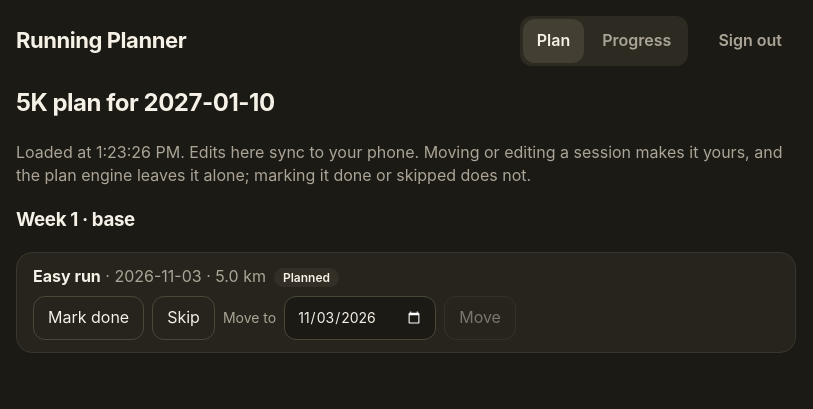
Test: the plan › keeps the conflict message when the reload after it fails too
The width and height of the screenshot is (813, 409).
Click the button "Mark done": (89, 318) [33,296,144,340]
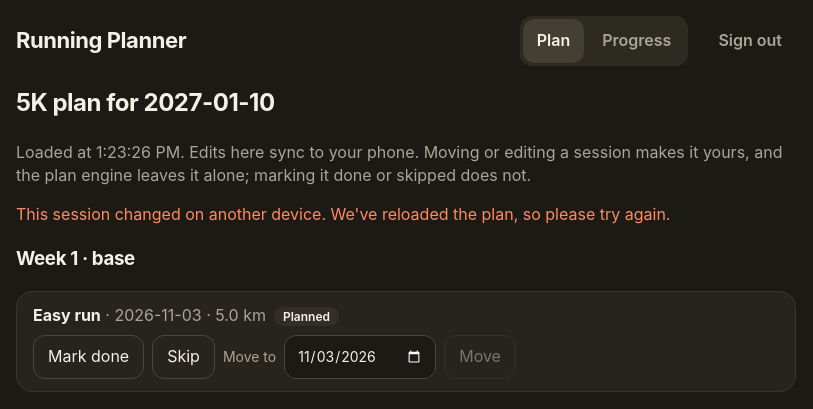
Expected: the message shows "changed on another device", [16,204,670,224]
